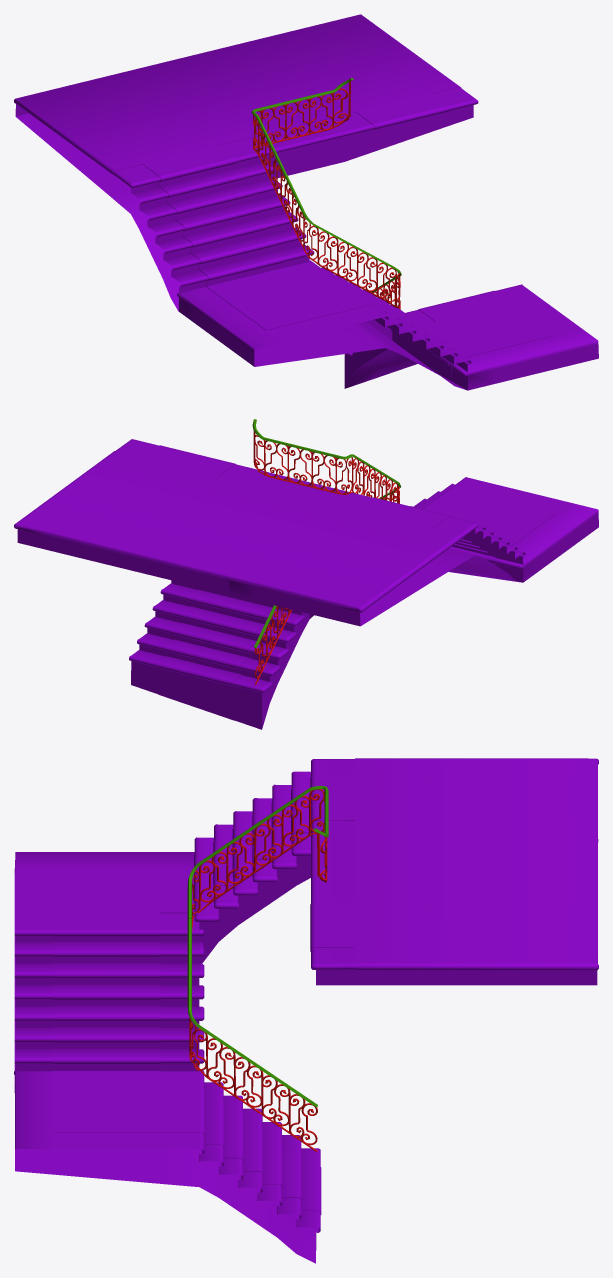
The model's file is escaliers_tile 2.fbx.
The picture shows the model from 3 angles, top to bottom: view 1: azimuth 30°, elevation 25°; view 2: azimuth 150°, elevation 25°; view 3: azimuth 270°, elevation 25°; orthographic projection. The views are drawn at different scales.
Visible parts, largest first — view 1: esc; view 2: esc; view 3: esc.
Part boxes in pixels (x1=…): esc: x1=14, y1=14, x2=598, y2=390; esc: x1=14, y1=419, x2=598, y2=729; esc: x1=14, y1=758, x2=598, y2=1263.
Bounding box in the file's own units: 506 × 429 × 603.
